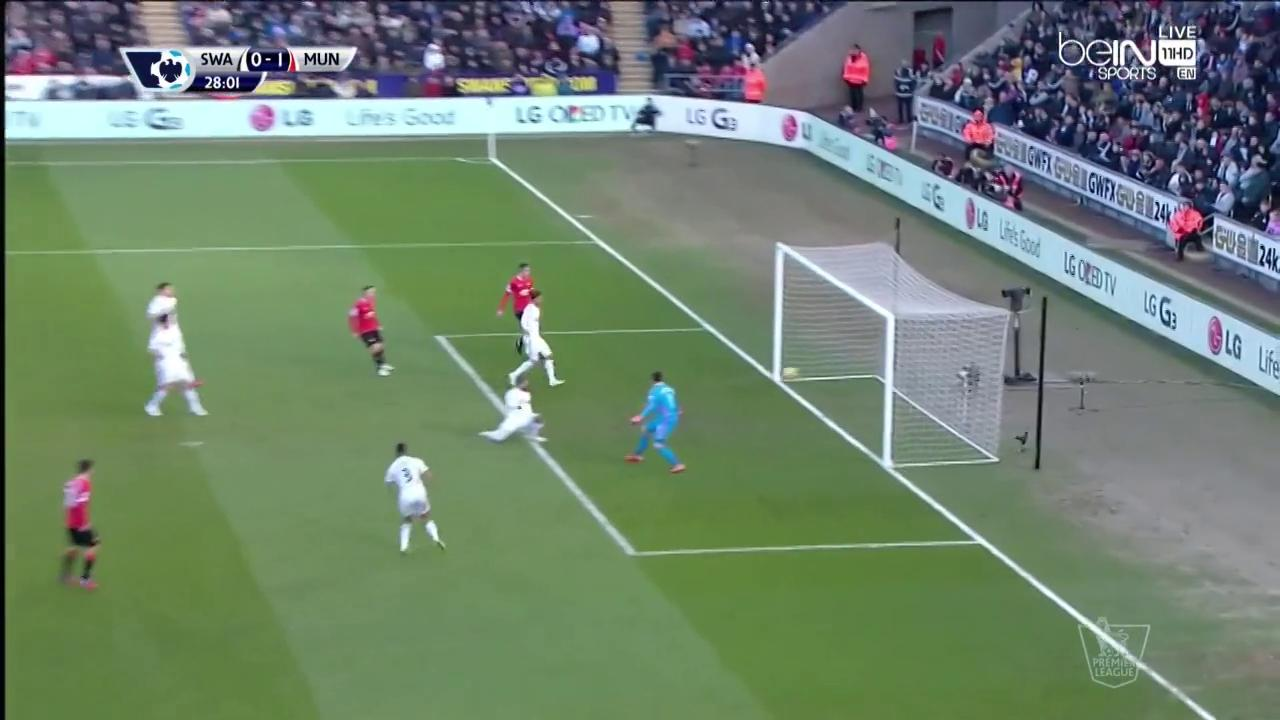football: (783, 367, 800, 380)
